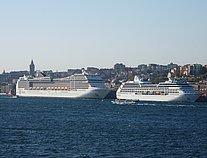Ship: (11, 69, 118, 104), (114, 76, 206, 108)
